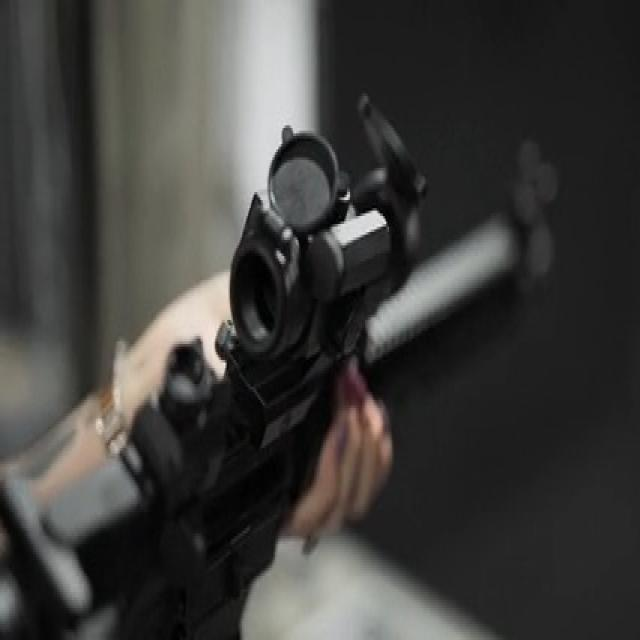Gun_Holder: (40, 82, 608, 640)
